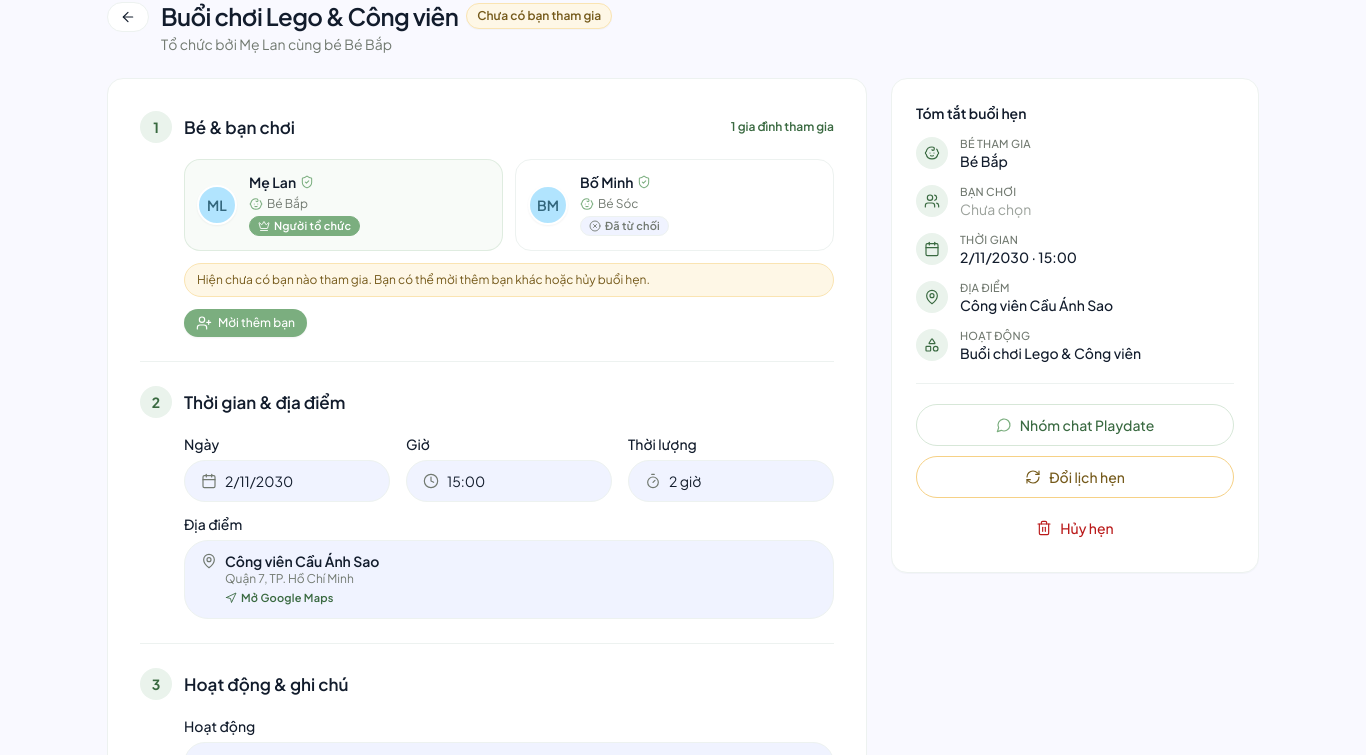
Test: PlaydateDetailPage Component › lets the host invite other friends once every invitee declined
The width and height of the screenshot is (1366, 755).
Check: the text "Chưa có bạn tham gia" is shown, box top-left (466, 3), bottom-right (612, 29)
Check: the text "Hiện chưa có bạn nào tham gia" is shown, box top-left (197, 272), bottom-right (650, 287)
Click the button "Mời thêm bạn" at (246, 323), box top-left (184, 309), bottom-right (307, 337)
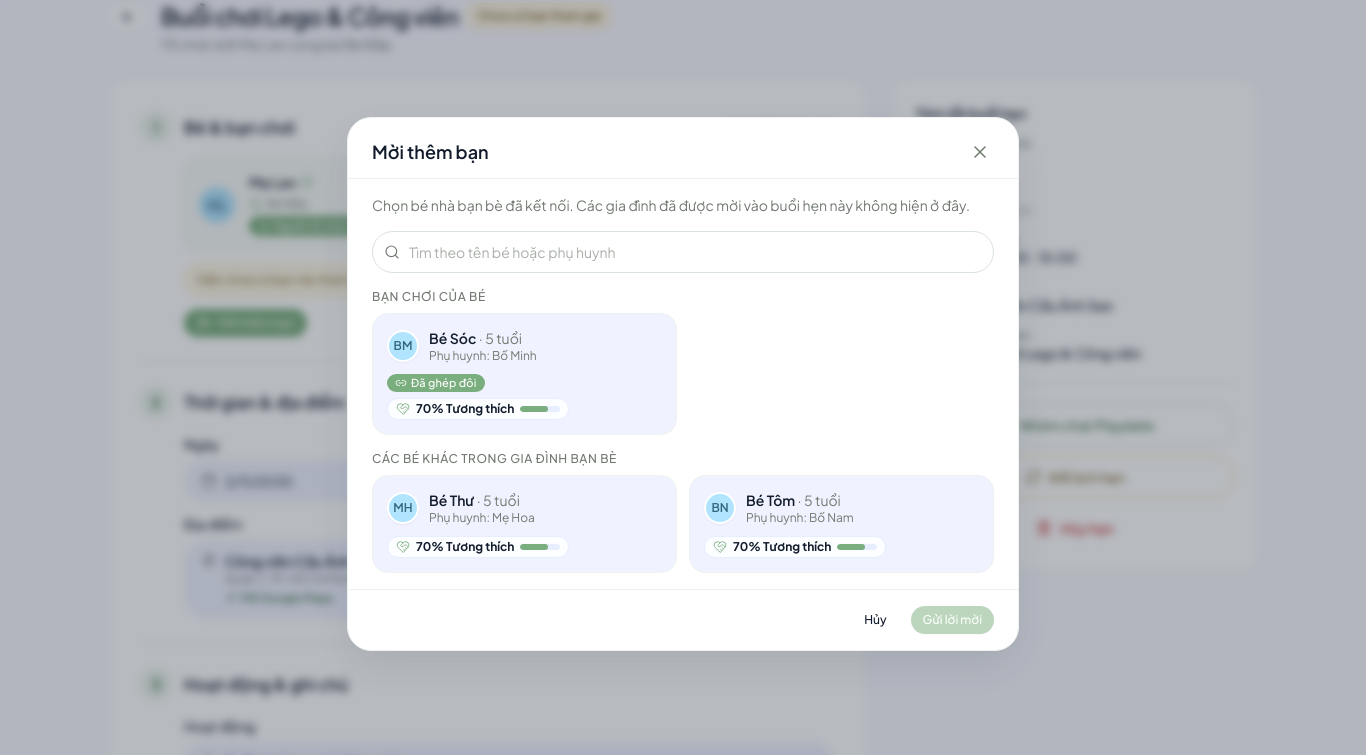
Check: the text "Bé Thư" is shown, box top-left (429, 491), bottom-right (474, 509)
Check: the text "Bé Sóc · 5 tuổi" is shown, box top-left (429, 329), bottom-right (522, 347)
Type "thu" into the search field with placeholder "Tìm theo tên bé hoặc phụ huynh" at (683, 252), box top-left (372, 231), bottom-right (994, 273)
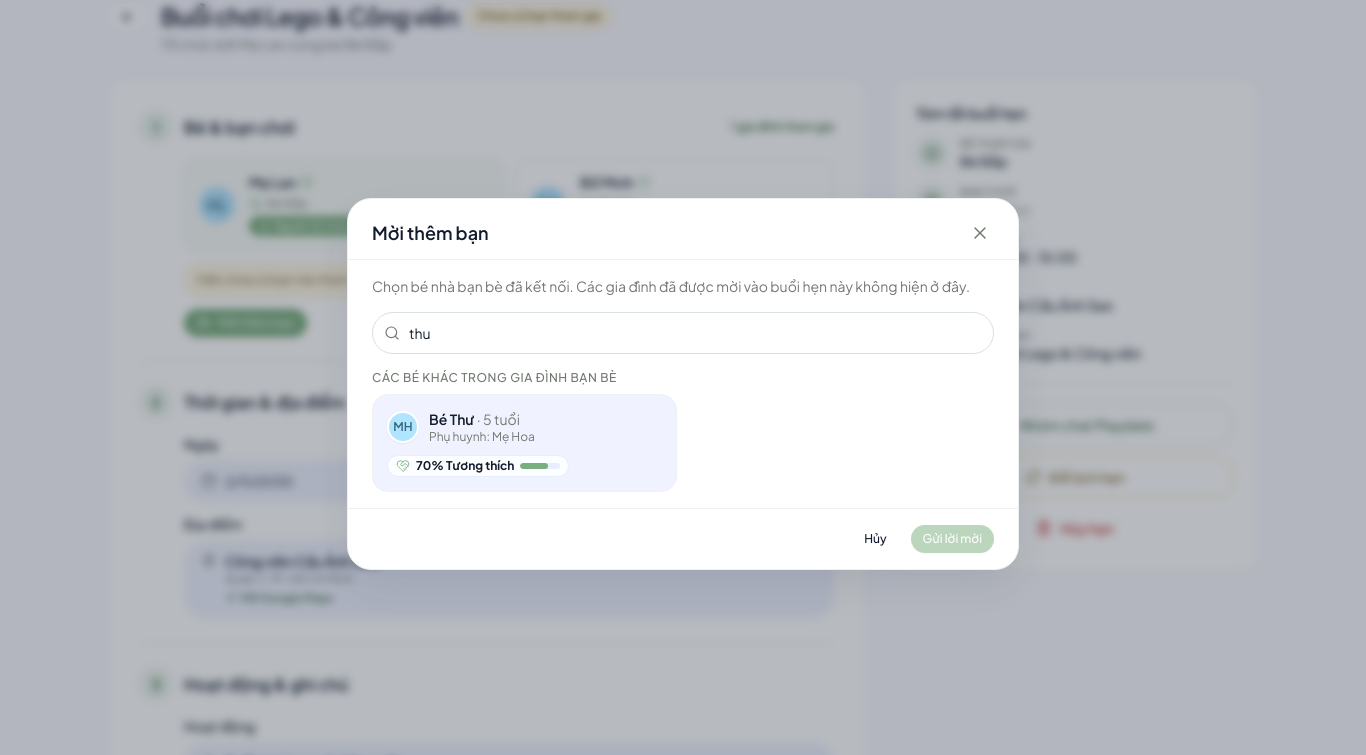
Check: the button "Bé Tôm" is gone
Click the button "Bé Thư" at (524, 443), box top-left (372, 394), bottom-right (677, 492)
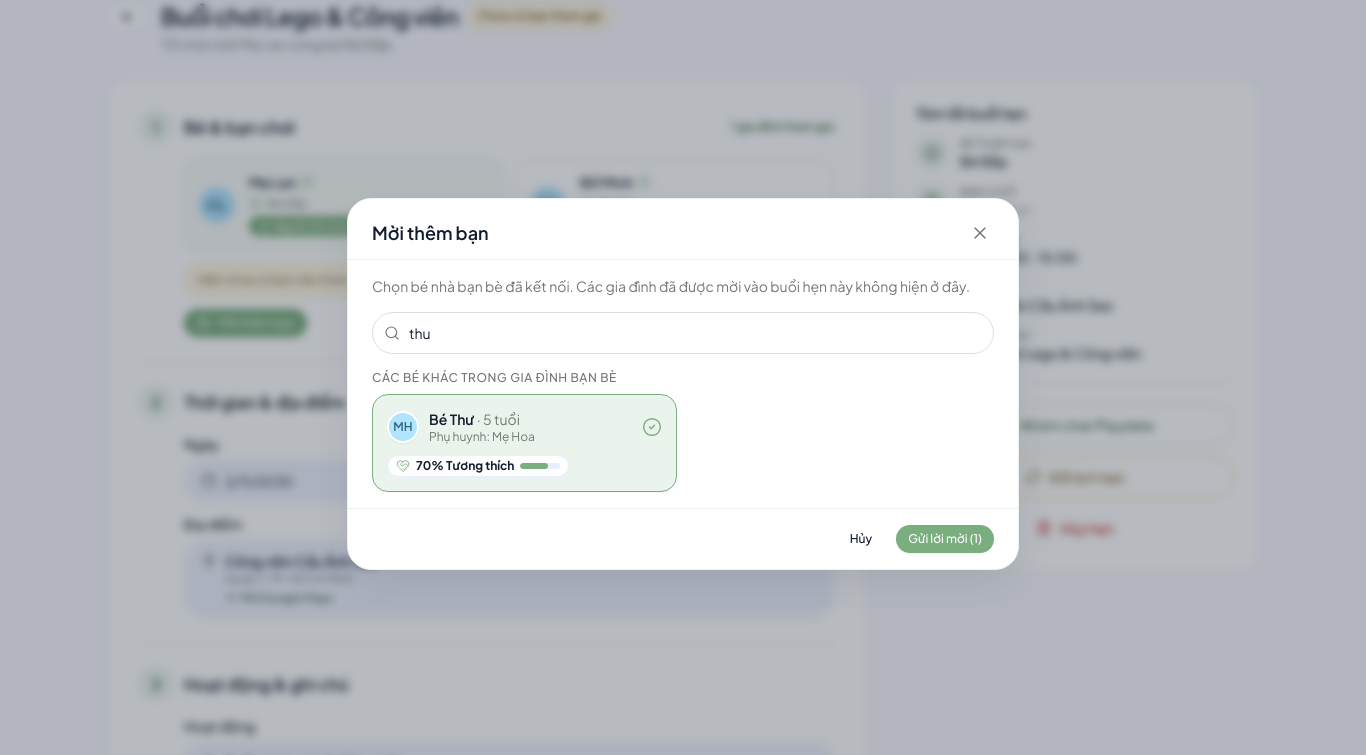
Click the button "Gửi lời mời (1)" at (945, 539), box top-left (896, 525), bottom-right (994, 553)
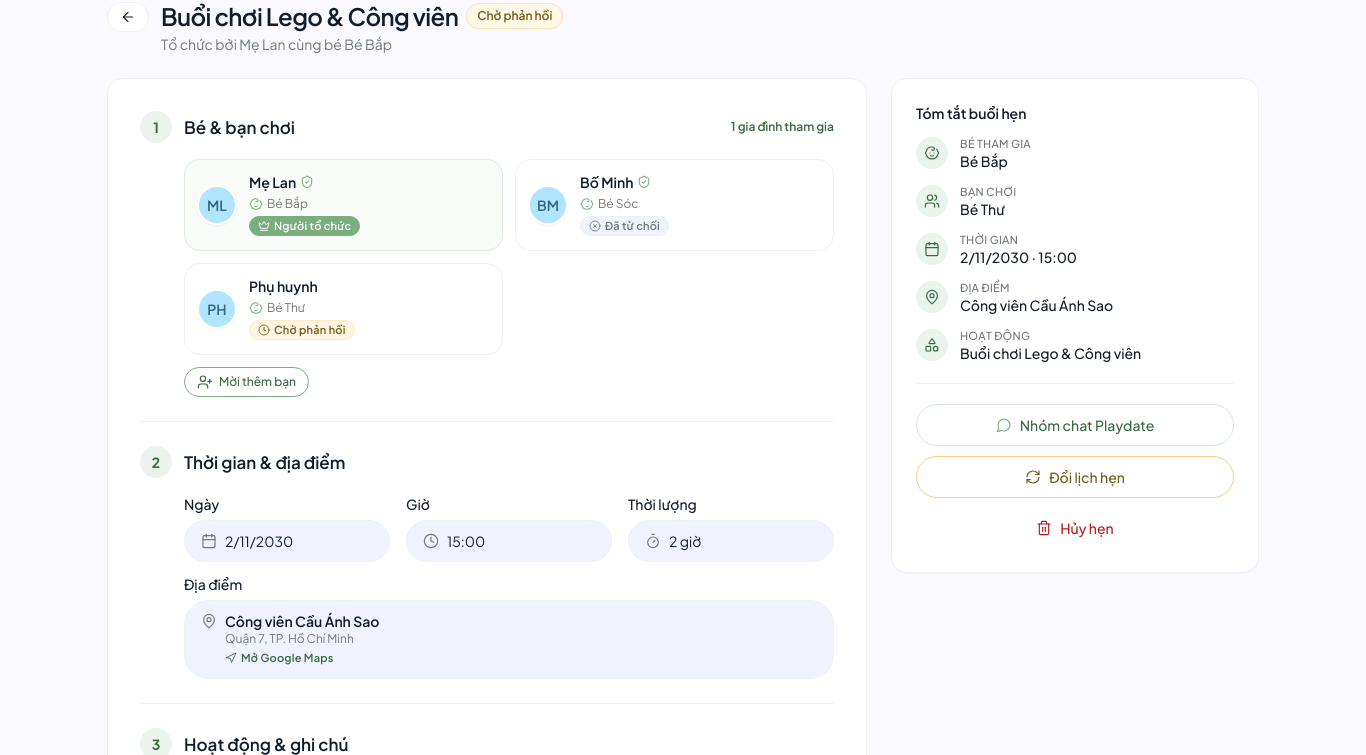
Check: the text "Chưa có bạn tham gia" is gone
